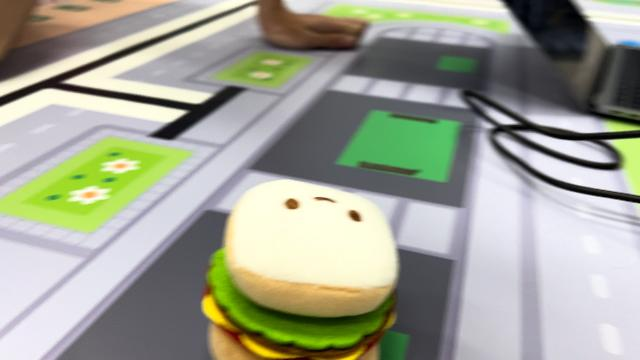sandwich: (200, 176, 402, 358)
